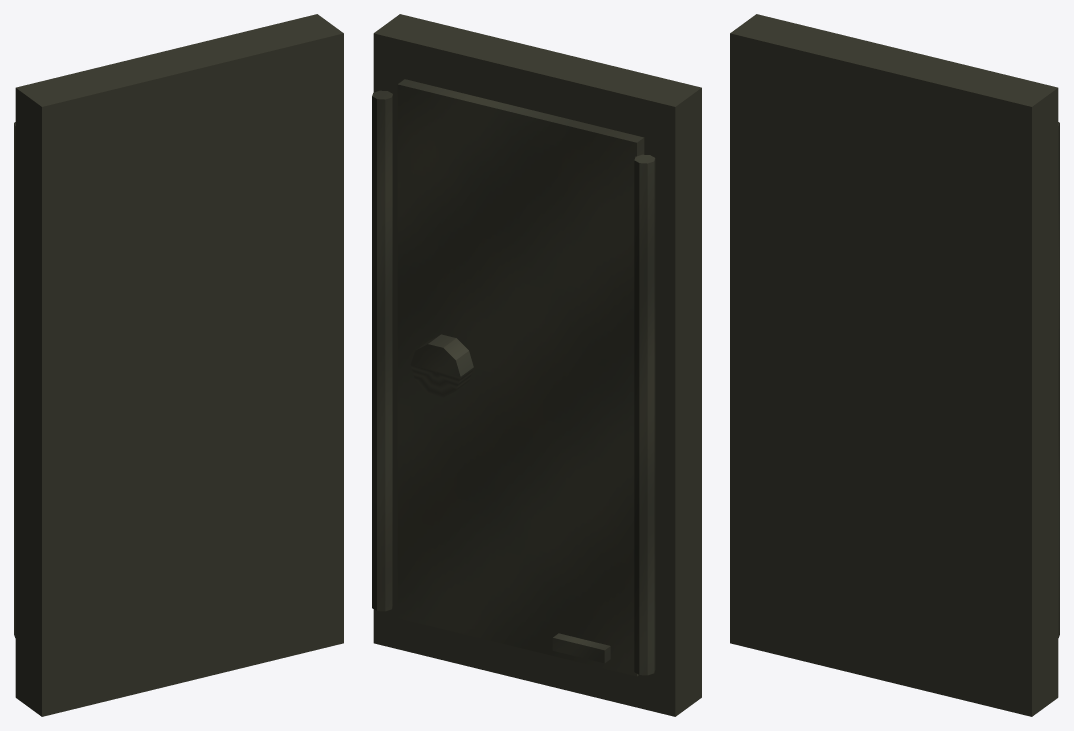
File: prop_vault_safe_heavy_a.glb
The picture shows the model from 3 angles, left to right: view 1: azimuth 30°, elevation 25°; view 2: azimuth 150°, elevation 25°; view 3: azimuth 330°, elevation 25°; orthographic projection.
Visible parts, largest first — view 1: prop_vault_safe_heavy_a; view 2: prop_vault_safe_heavy_a; view 3: prop_vault_safe_heavy_a.
Boxes of the visible parts, x1,y1,x2,y2 form: prop_vault_safe_heavy_a: (14,14,343,716); prop_vault_safe_heavy_a: (372,14,701,716); prop_vault_safe_heavy_a: (730,14,1059,716).
Bounding box in the file's own units: 1.45 × 2.8 × 0.405.
Materials: 1 (1 with a texture image).
